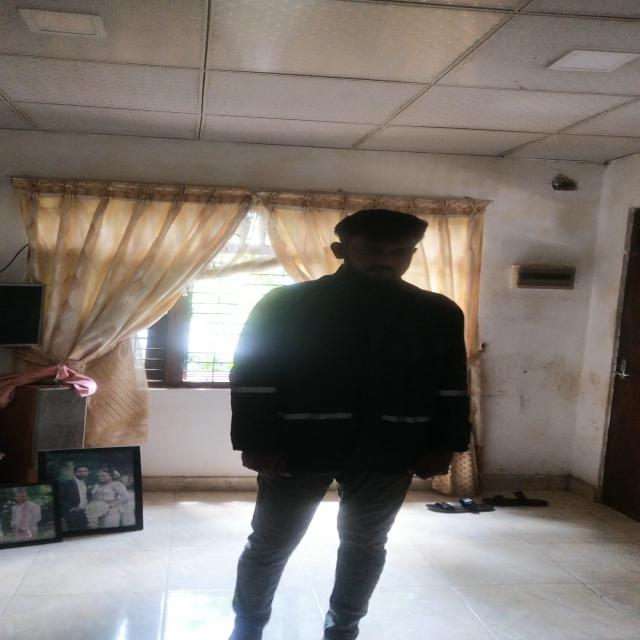Jacket_Wearer: (222, 284, 471, 474)
Person: (214, 206, 482, 640)
